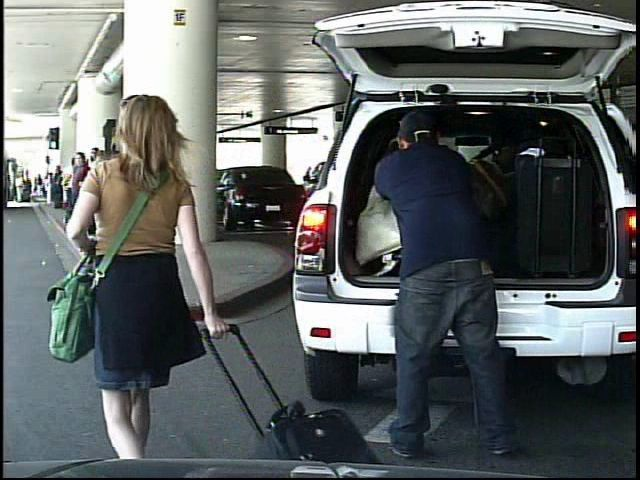person: (90, 83, 250, 455), (371, 105, 524, 464), (303, 165, 316, 201), (14, 173, 25, 204), (36, 174, 46, 201)
